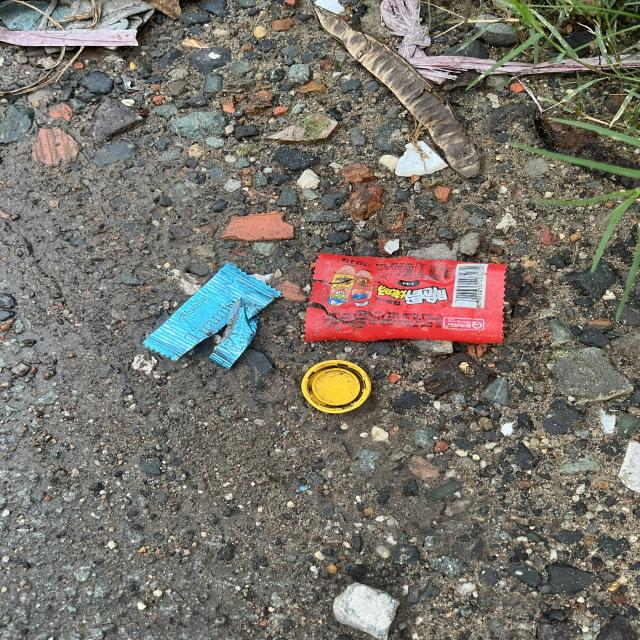lid: (300, 360, 370, 414)
packet: (304, 254, 507, 344), (144, 260, 281, 369)
